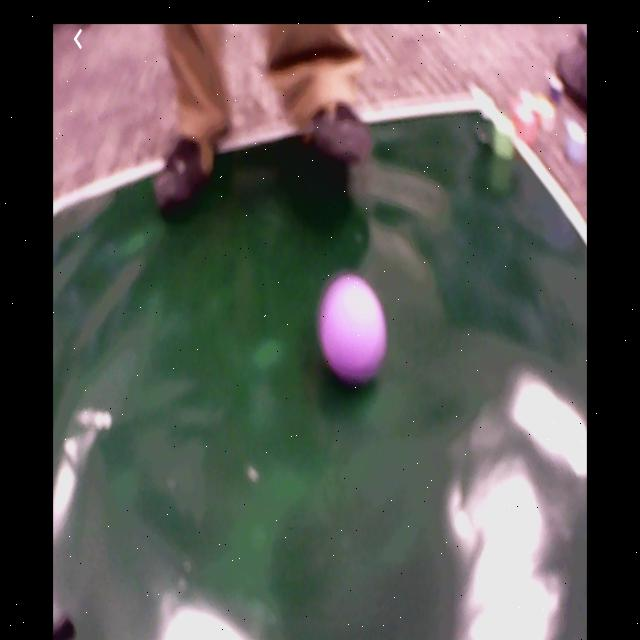ball: (318, 277, 389, 378)
